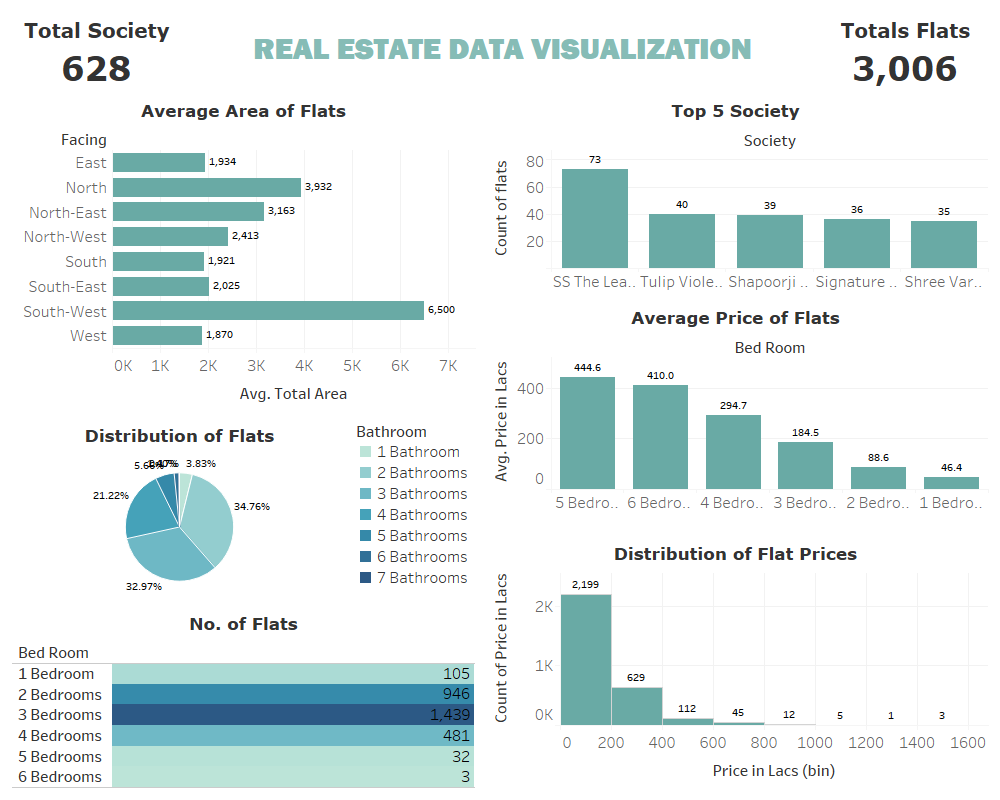

Layout of this report page (visuals, bound fields, positions):
{"tool":"tableau","page":{"name":"Dashboard 1","canvas":[1000,800],"ordinal":0},"visuals":[{"type":"worksheet","title":"Total Society","mark":"Automatic","box":[8,8,178,82]},{"type":"text","box":[186,8,633,82]},{"type":"worksheet","title":"Total Flats","mark":"Automatic","box":[819,8,173,82]},{"type":"worksheet","title":"Average Area","mark":"Automatic","rows":["facing"],"cols":["areaWithType"],"box":[8,90,471,325]},{"type":"worksheet","title":"Top 5 Society","mark":"Automatic","rows":["flats_7FF413357A614F9883D8FC9AC49EE7B4"],"cols":["society"],"box":[479,90,513,207]},{"type":"worksheet","title":"Average Price","mark":"Automatic","rows":["price"],"cols":["bedRoom"],"box":[479,297,513,236]},{"type":"worksheet","title":"Distribution of Flats","mark":"Pie","box":[8,415,343,188.5]},{"type":"legend","title":"Distribution of Flats","param":"[federated.137ltla1oonhlx105g60h1vq6kaf].[none:bathroom:nk]","box":[351,415,128,188.5]},{"type":"worksheet","title":"Flat Prices","mark":"Automatic","rows":["price"],"cols":["Price in Lacs (bin)"],"box":[479,533,513,259]},{"type":"worksheet","title":"No. of Flats","mark":"Square","rows":["bedRoom"],"box":[8,603.5,471,188.5]}]}

Visuals, with their boxes in screenshot pixels (x1, y1, x2, y2), scaled from the page's 1000x800 canvas onto the 1000x800 screenshot:
"Total Society" worksheet: [x1=8, y1=8, x2=186, y2=90]
text: [x1=186, y1=8, x2=819, y2=90]
"Total Flats" worksheet: [x1=819, y1=8, x2=992, y2=90]
"Average Area" worksheet: [x1=8, y1=90, x2=479, y2=415]
"Top 5 Society" worksheet: [x1=479, y1=90, x2=992, y2=297]
"Average Price" worksheet: [x1=479, y1=297, x2=992, y2=533]
"Distribution of Flats" worksheet (Pie marks): [x1=8, y1=415, x2=351, y2=604]
"Distribution of Flats" legend: [x1=351, y1=415, x2=479, y2=604]
"Flat Prices" worksheet: [x1=479, y1=533, x2=992, y2=792]
"No. of Flats" worksheet (Square marks): [x1=8, y1=604, x2=479, y2=792]
